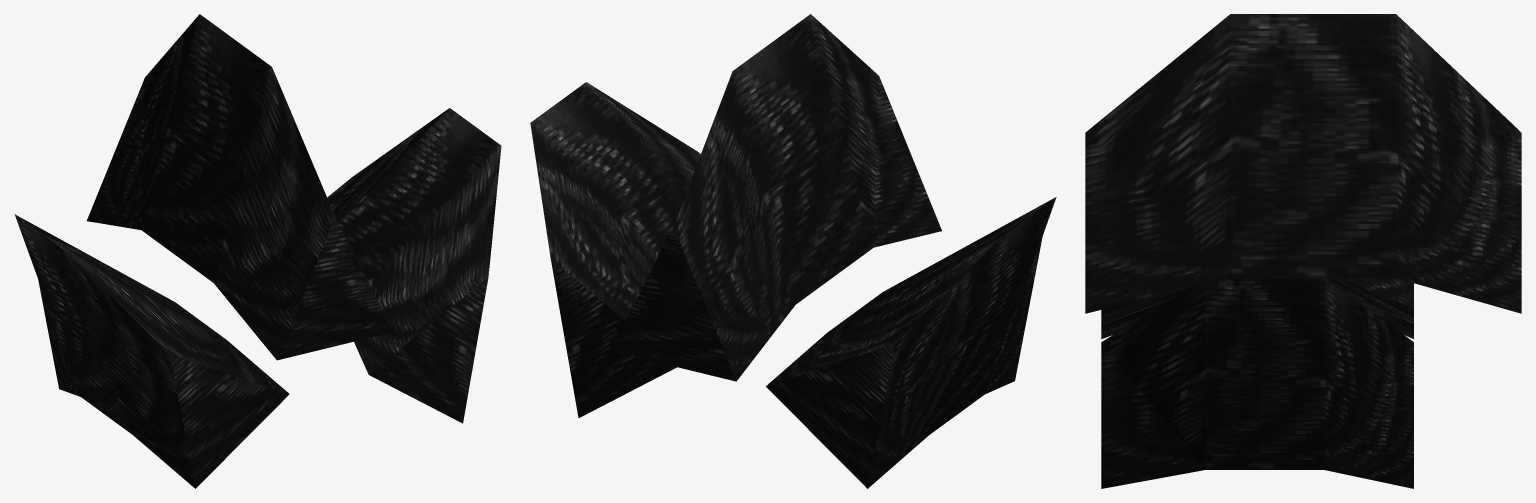
Rendered from hair_sao_male_03.dae.
3 renders of one model, left to right at view 1: azimuth 30°, elevation 25°; view 2: azimuth 150°, elevation 25°; view 3: azimuth 270°, elevation 25°, orthographic. The views are drawn at different scales.
Parts seen in each view (by area): view 1: a_hair_male_sao_03; view 2: a_hair_male_sao_03; view 3: a_hair_male_sao_03.
Boxes of the visible parts, x1,y1,x2,y2 form: a_hair_male_sao_03: (14, 14, 501, 488); a_hair_male_sao_03: (530, 14, 1056, 488); a_hair_male_sao_03: (1085, 14, 1521, 488).
Bounding box in the file's own units: 0.5391 × 0.4083 × 0.4124.
